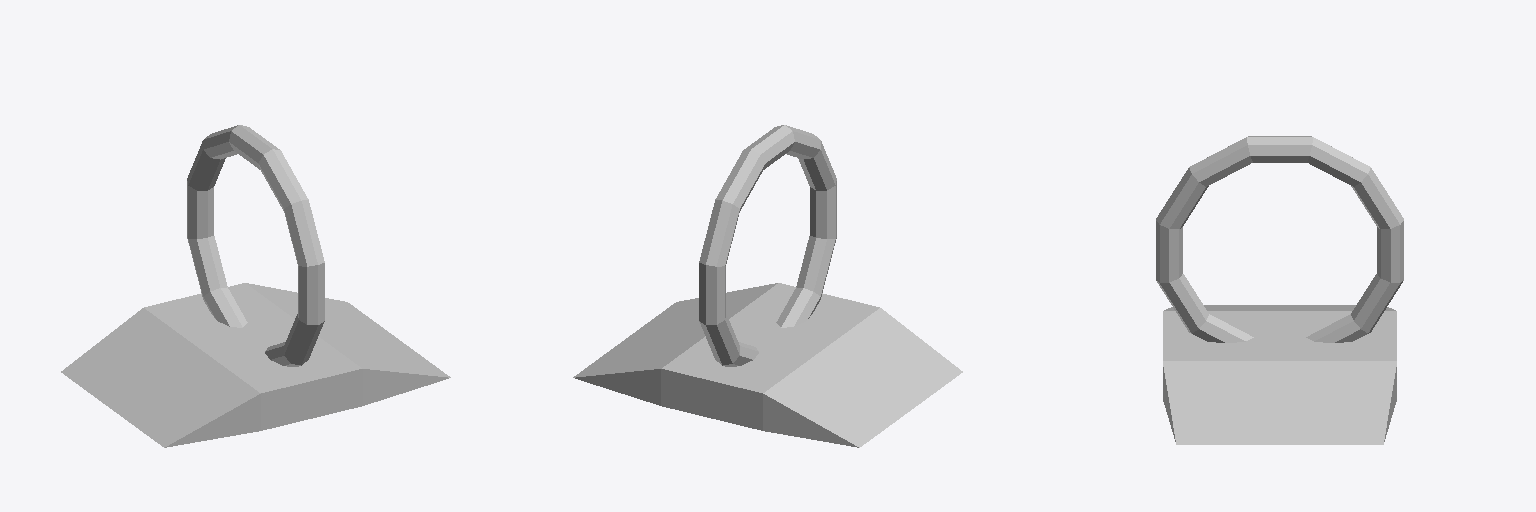
The model's file is portal.obj.
The picture shows the model from 3 angles: view 1: azimuth 30°, elevation 25°; view 2: azimuth 150°, elevation 25°; view 3: azimuth 270°, elevation 25°; orthographic projection.
Parts seen in each view (by area): view 1: cube, torus; view 2: cube, torus; view 3: cube, torus.
Boxes of the visible parts, x1=… form: cube: x1=61, y1=283, x2=450, y2=447; torus: x1=187, y1=125, x2=324, y2=366; cube: x1=573, y1=283, x2=962, y2=447; torus: x1=699, y1=125, x2=836, y2=366; cube: x1=1163, y1=305, x2=1396, y2=444; torus: x1=1156, y1=136, x2=1403, y2=342.
Size of the model in its own units: 3 by 2.38 by 2.25.